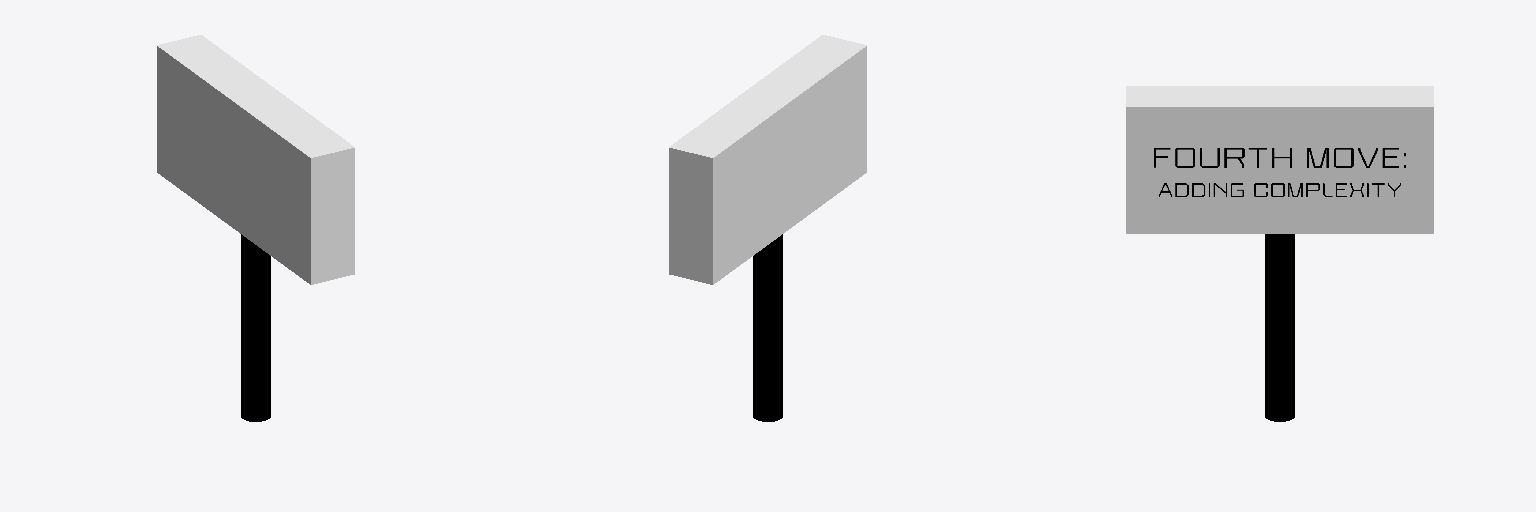
The picture shows the model from 3 angles: view 1: azimuth 30°, elevation 25°; view 2: azimuth 150°, elevation 25°; view 3: azimuth 270°, elevation 25°; orthographic projection.
Parts seen in each view (by area): view 1: pCube1, pCylinder1; view 2: pCube1, pCylinder1; view 3: pCube1, pCylinder1.
Part boxes in pixels (x1,y1,x2,y2): pCube1: (157, 35, 354, 284); pCylinder1: (241, 234, 270, 421); pCube1: (669, 35, 866, 284); pCylinder1: (753, 234, 782, 421); pCube1: (1126, 86, 1433, 233); pCylinder1: (1265, 234, 1294, 421).
Size of the model in its own units: 1 by 6.84 by 5.99.
3 materials, 1 textured.